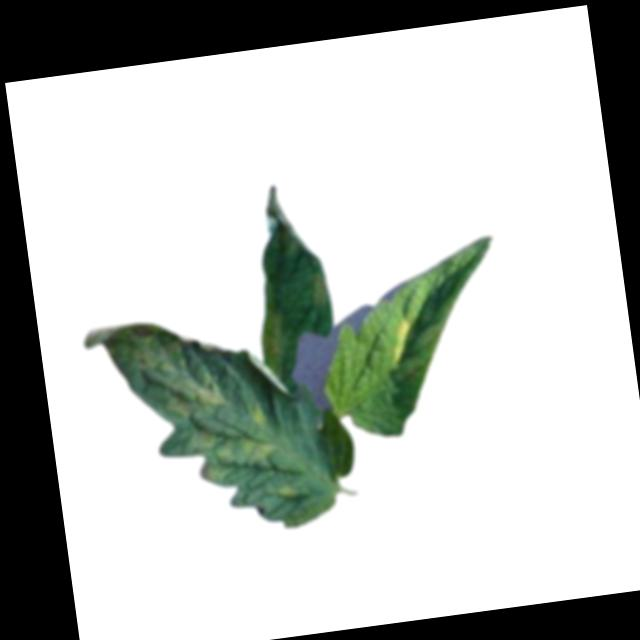Leaf_Mold: (83, 309, 227, 429), (182, 421, 279, 489), (384, 314, 416, 366), (242, 396, 269, 430), (308, 274, 332, 307), (273, 477, 297, 500)
